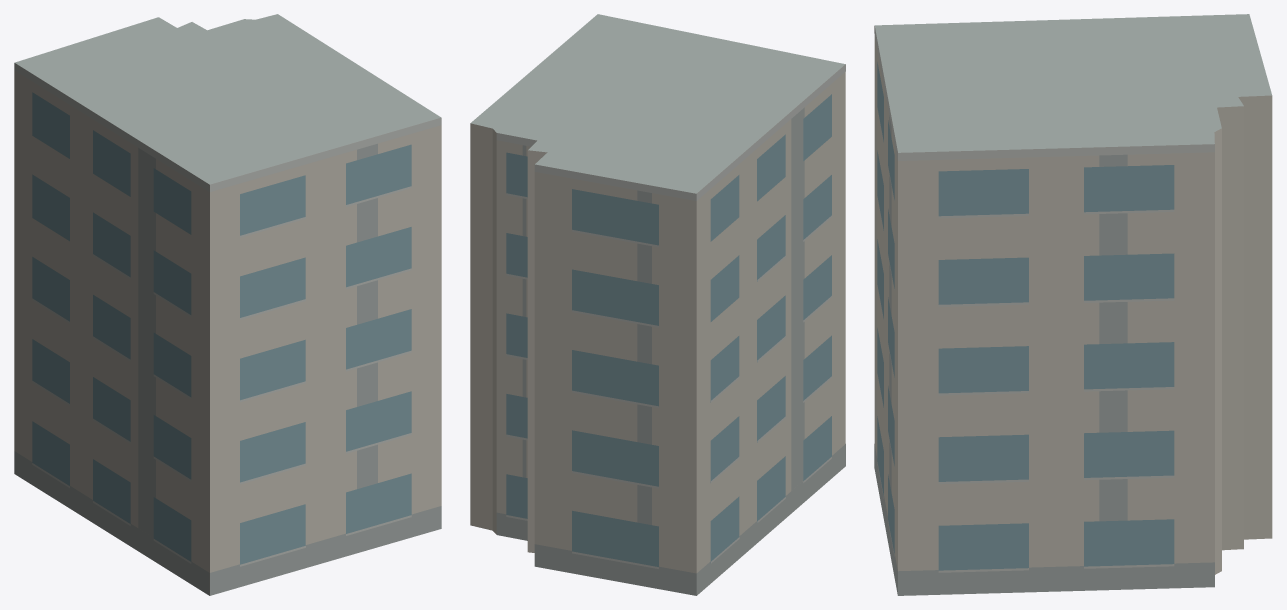
Rendered from survey-upis-32904136.glb.
The picture shows the model from 3 angles, left to right: view 1: azimuth 30°, elevation 25°; view 2: azimuth 150°, elevation 25°; view 3: azimuth 270°, elevation 25°; orthographic projection. The views are drawn at different scales.
Visible parts, largest first — view 1: survey-upis-32904136.tmp; view 2: survey-upis-32904136.tmp; view 3: survey-upis-32904136.tmp.
Boxes of the visible parts, x1,y1,x2,y2 form: survey-upis-32904136.tmp: [14, 14, 441, 595]; survey-upis-32904136.tmp: [470, 14, 845, 595]; survey-upis-32904136.tmp: [874, 14, 1272, 595].
Size of the model in its own units: 8.88 by 13.2 by 10.75.
